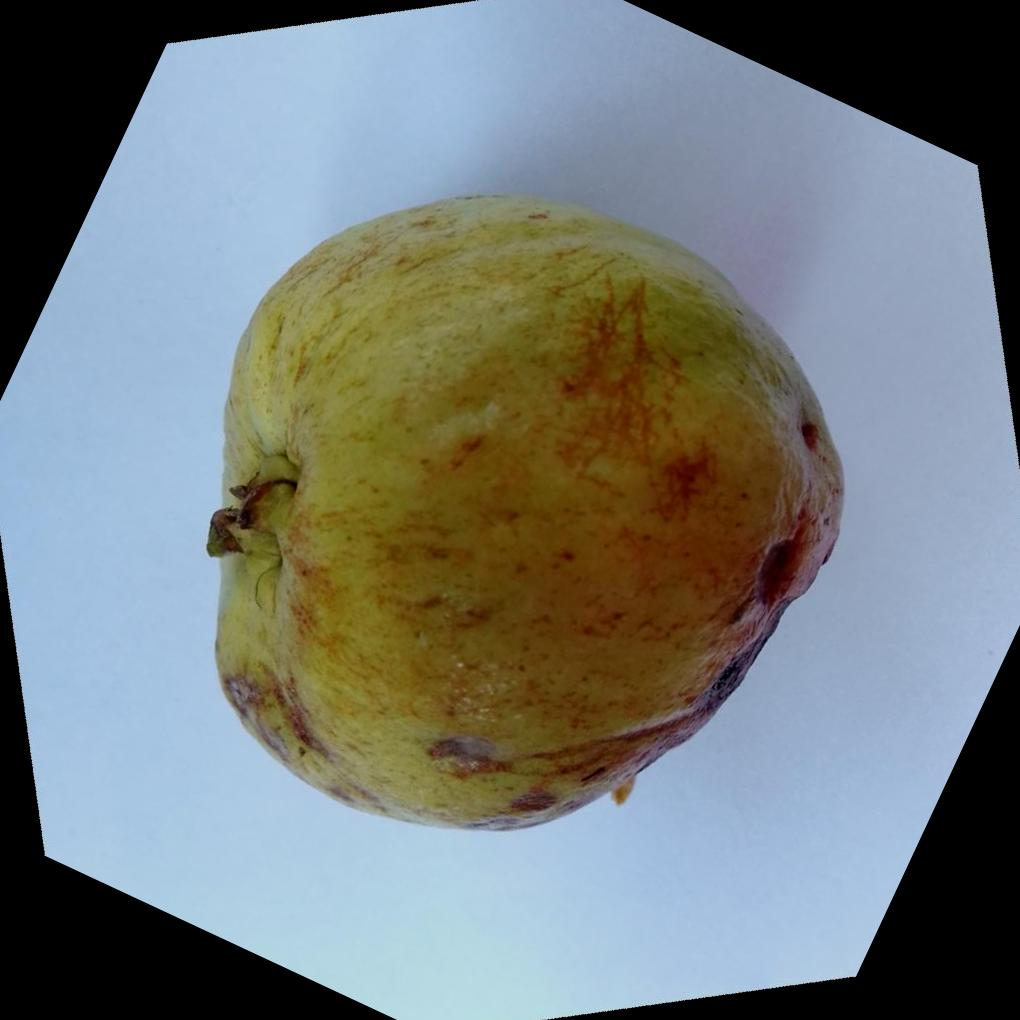FreshOrange: (200, 190, 843, 830)
